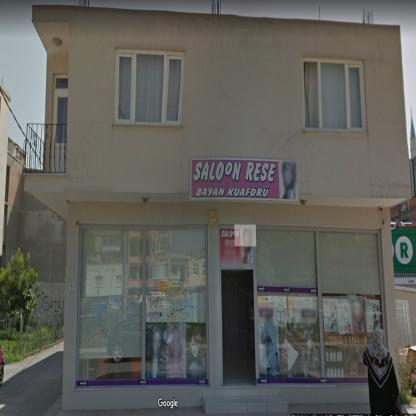door: (219, 266, 260, 387), (50, 74, 68, 172)
window: (76, 224, 209, 386), (257, 227, 387, 386), (114, 49, 185, 125), (302, 58, 366, 130), (397, 301, 411, 345)
